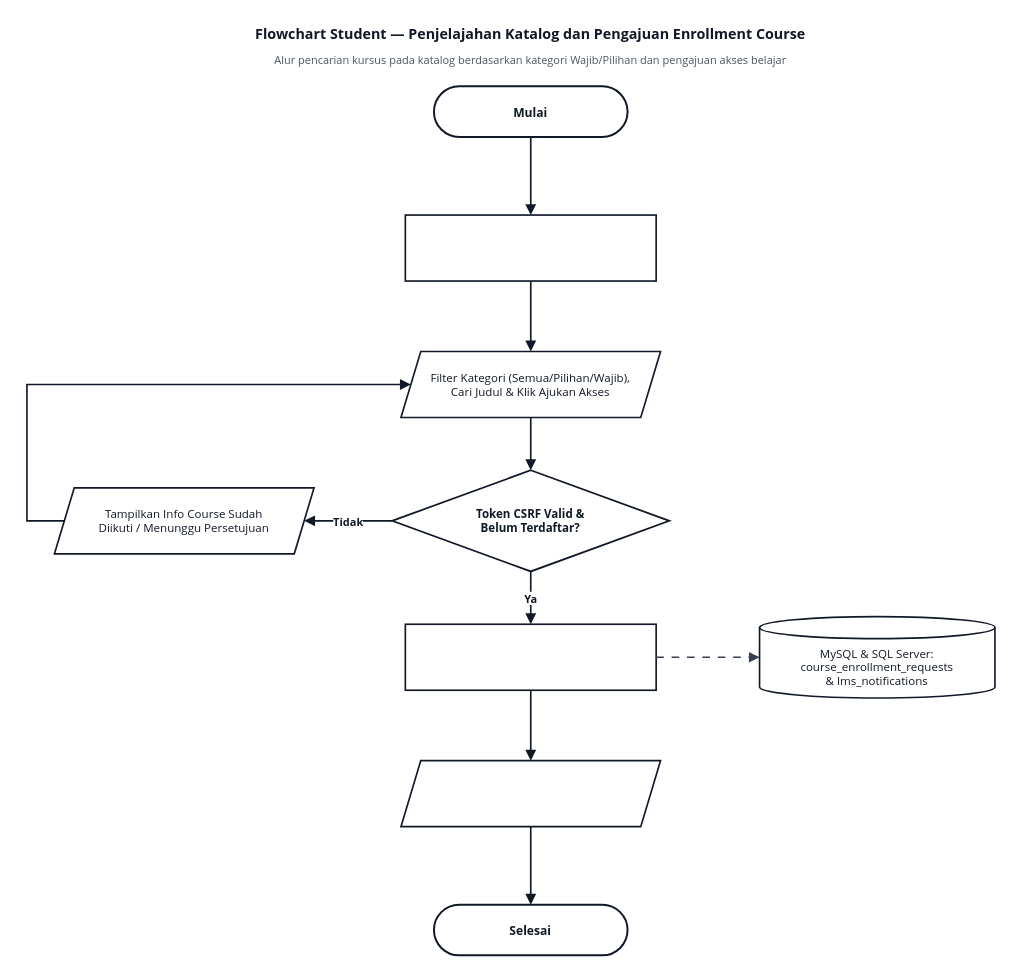
Some shapes in this 1015 by 975 pixel diagram are drawn without their labels. Here are the shapes that lost their labels. From the top down, the centre of each, then its label:
At (x=530, y=247): "Buka Menu Course (Katalog Course) pada Sidebar Siswa".
At (x=530, y=657): "Simpan Permintaan Enrollment & Kirim Notifikasi ke Admin".
At (x=530, y=793): "Tampilkan Status Menunggu Persetujuan Admin pada Course".
